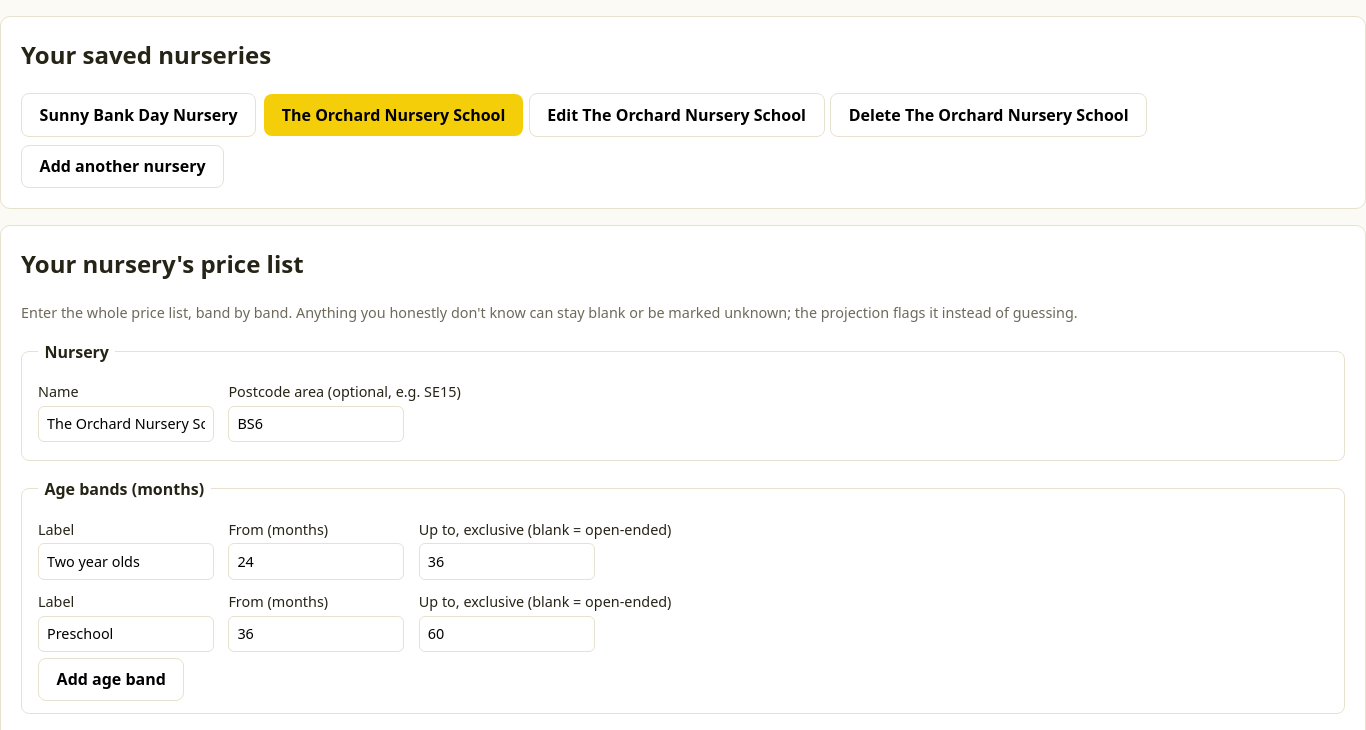
Test: Home nursery switching › deletes a nursery through the two-step confirm and updates the store
The image size is (1366, 730).
Click the button "Delete The Orchard Nursery School". click: coordinates (989, 115)
box: [830,93,1147,136]
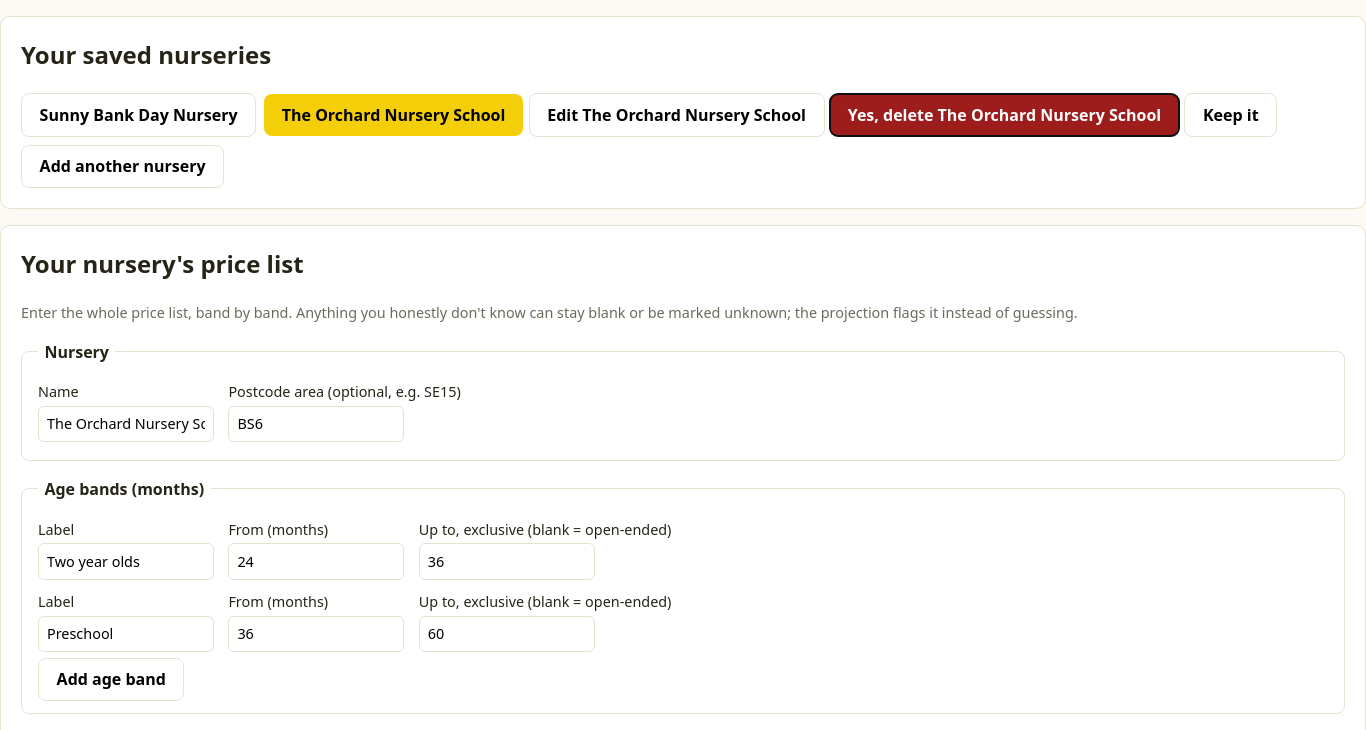
Click the button "Yes, delete The Orchard Nursery School". click: coordinates (1004, 115)
box: [830,94,1179,136]
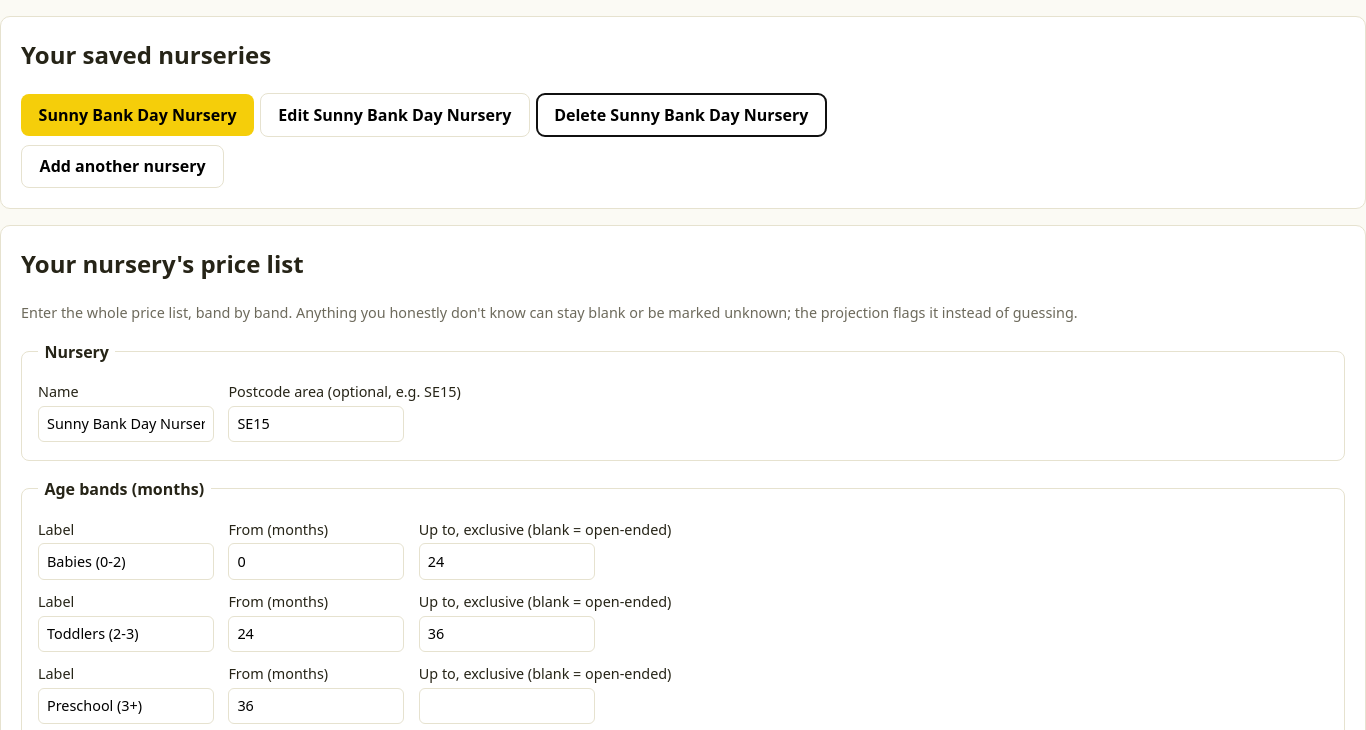
Now the button "The Orchard Nursery School" is gone
